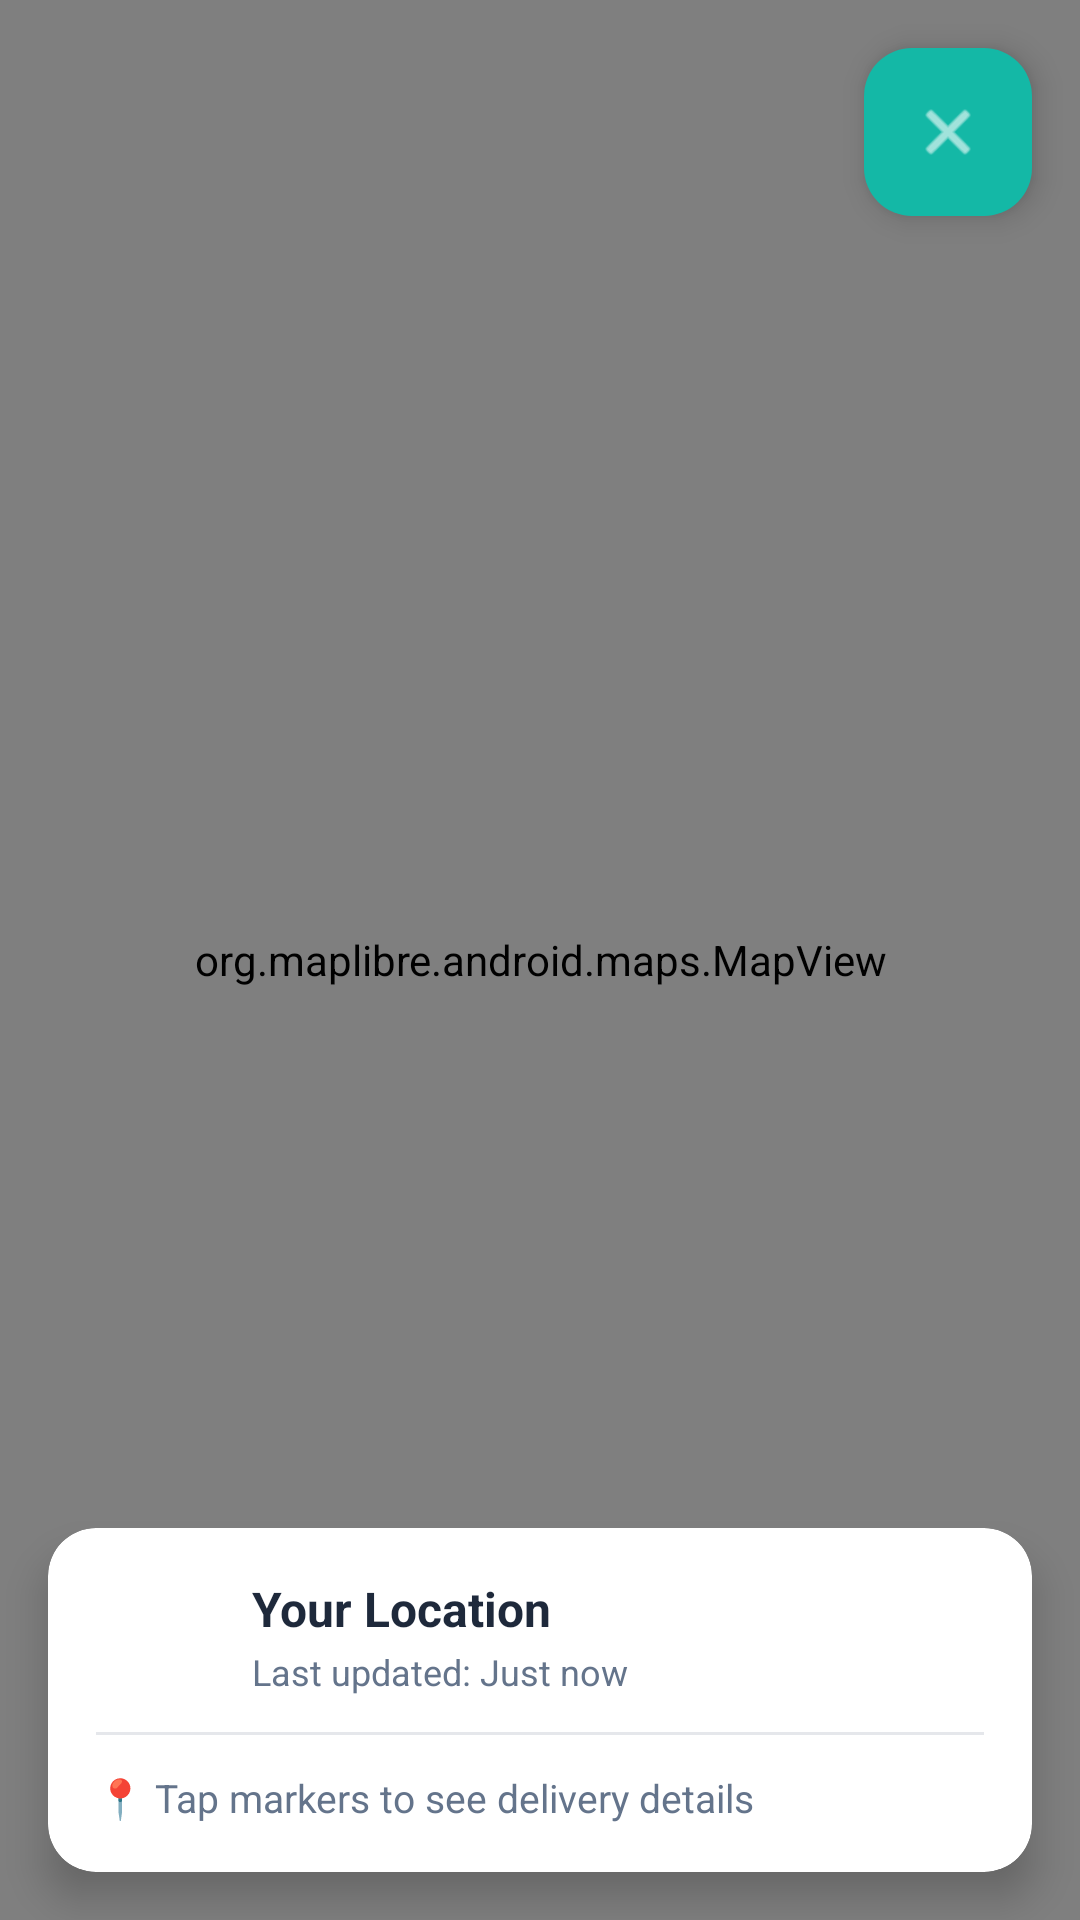

Named icons in this screenshot (1080 × 1920) and their bounding boxes, (x1, y1, x2, y2):
Close Map: (864, 48, 1032, 216)
